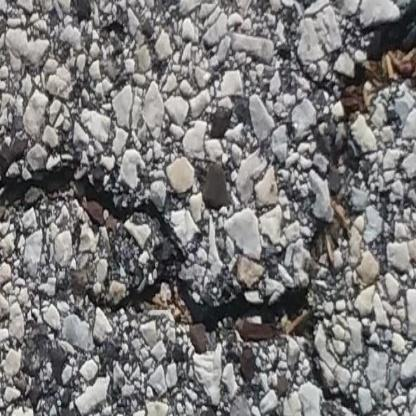Cracks: (0, 161, 367, 416), (303, 20, 416, 276)
